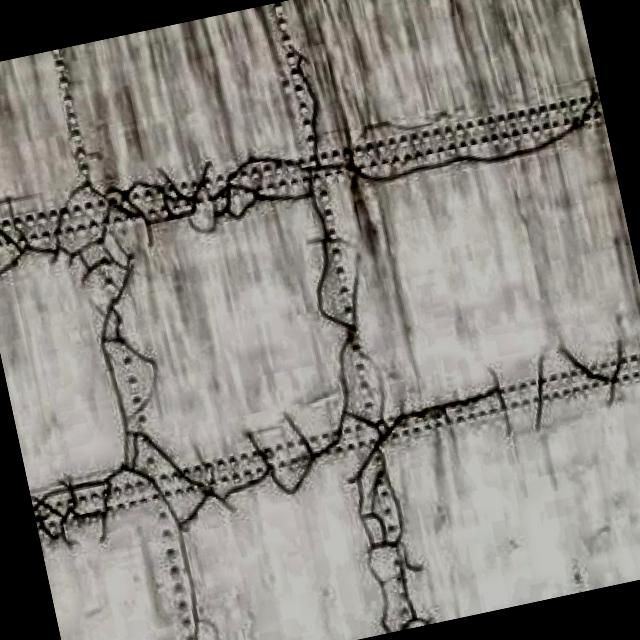crack: (20, 321, 640, 565), (0, 73, 604, 283), (255, 43, 437, 633), (56, 157, 227, 640)
